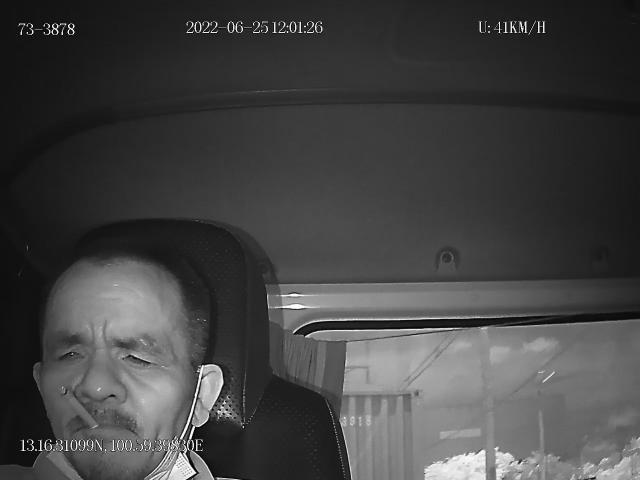SafeDriving: (50, 336, 93, 371)
Smoking: (58, 382, 98, 428)
